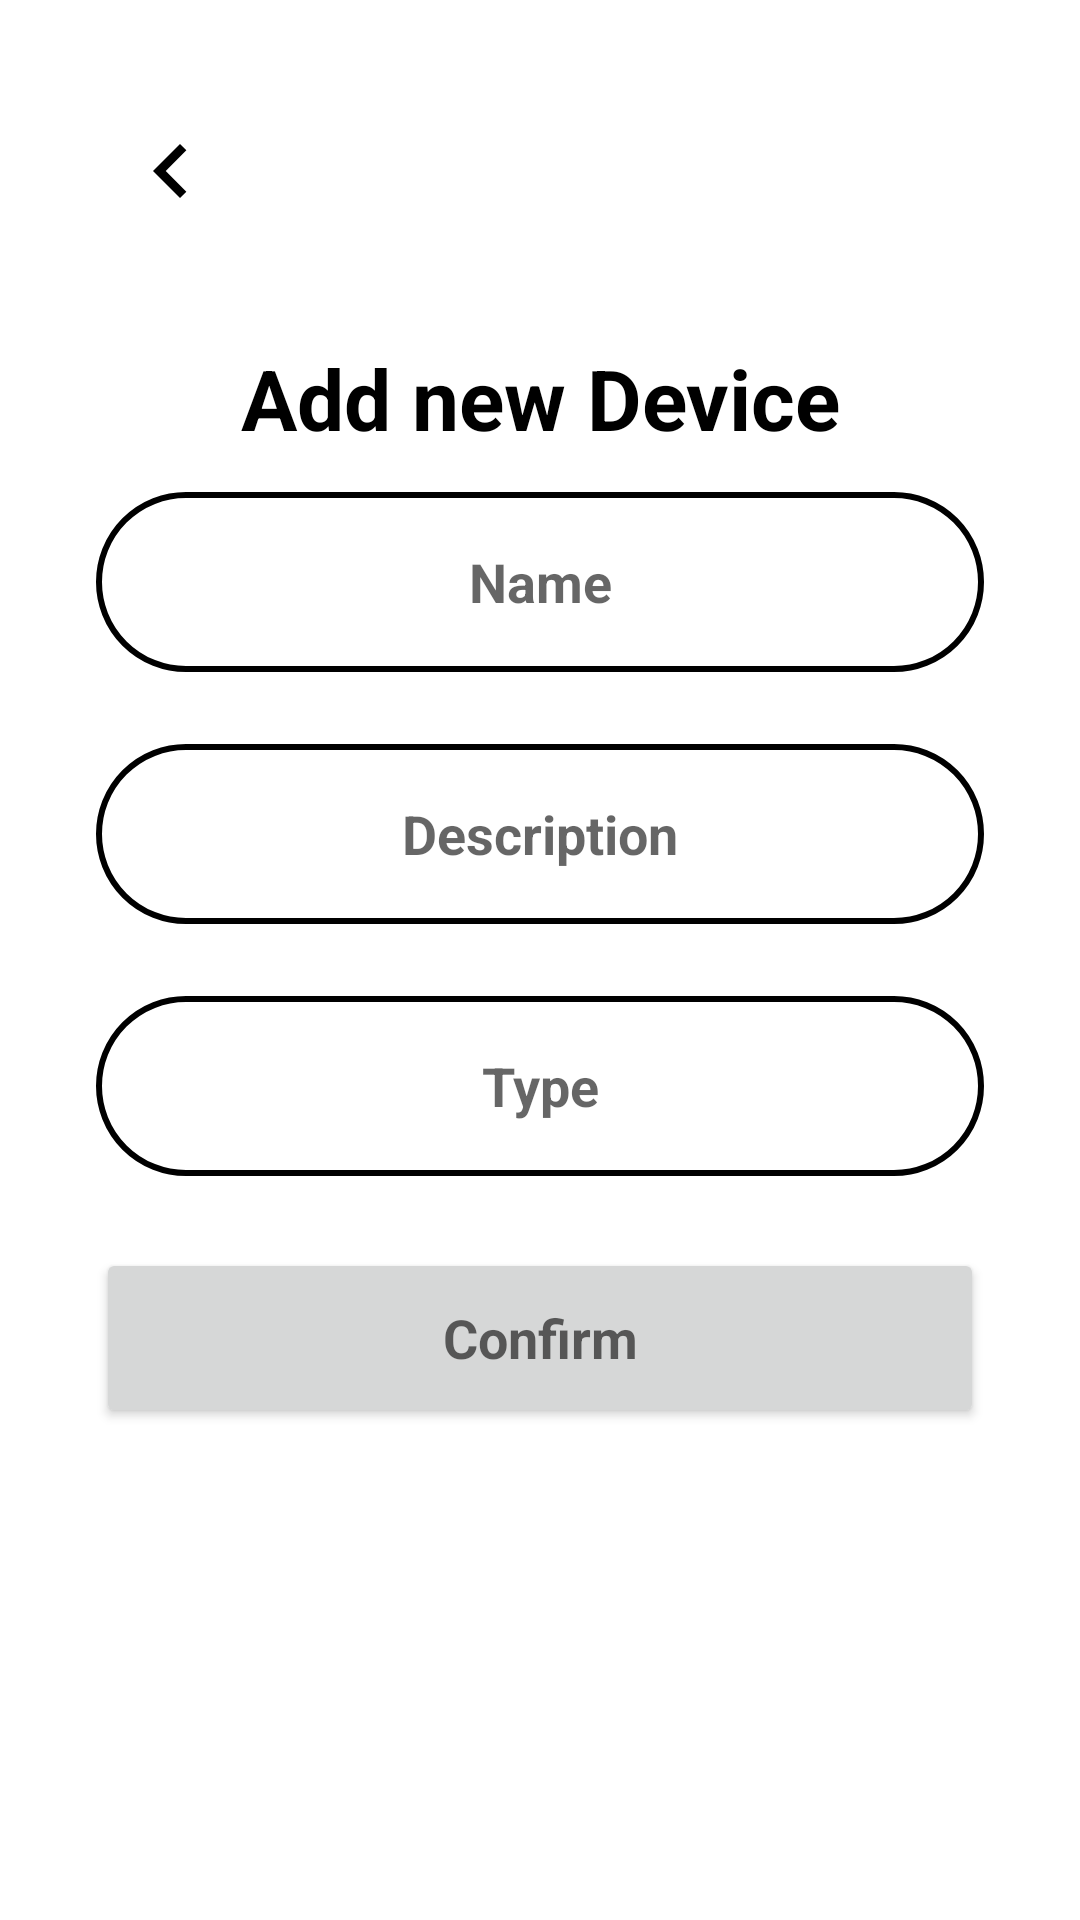

Icon bounding boxes for this 1080 × 1920 phone screenshot, format [x1=x1, y1=y1, x2=x2, y2=y2]:
Backward: [x1=153, y1=144, x2=187, y2=198]
